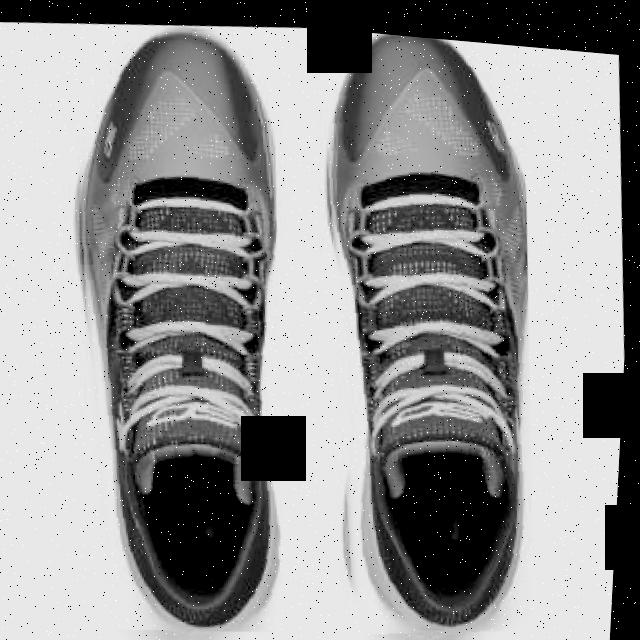shoe: (48, 9, 315, 640), (295, 22, 564, 640)
